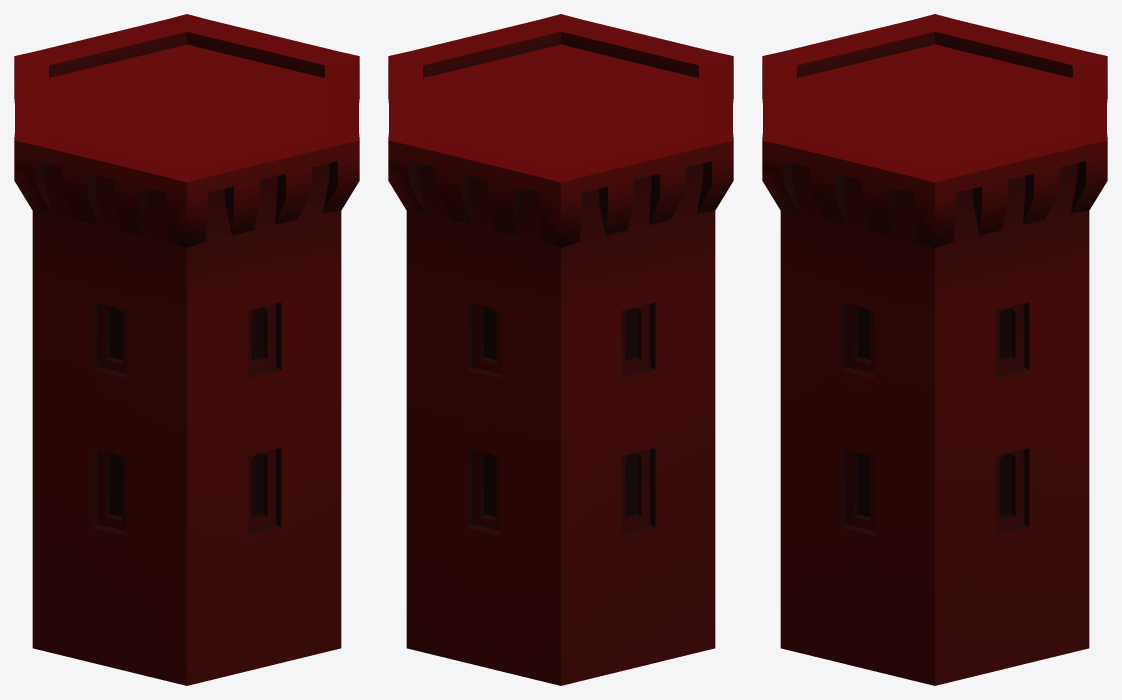
Rendered from buildings-ruins-castleruins_v7.fbx.
3 views of the same model, side by side, from view 1: azimuth 30°, elevation 25°; view 2: azimuth 150°, elevation 25°; view 3: azimuth 270°, elevation 25° (orthographic).
Visible parts, largest first — view 1: CastleRuins_v7; view 2: CastleRuins_v7; view 3: CastleRuins_v7.
Part boxes in pixels (x1,y1,x2,y2): CastleRuins_v7: (14,14,359,685); CastleRuins_v7: (388,14,733,685); CastleRuins_v7: (762,14,1107,685).
Bounding box in the file's own units: 20.2 × 28.61 × 17.49.
